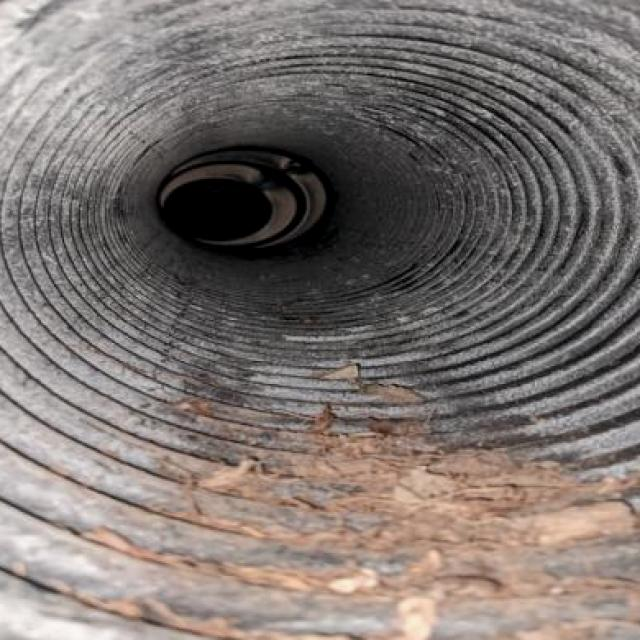dirt: (231, 374, 640, 640)
